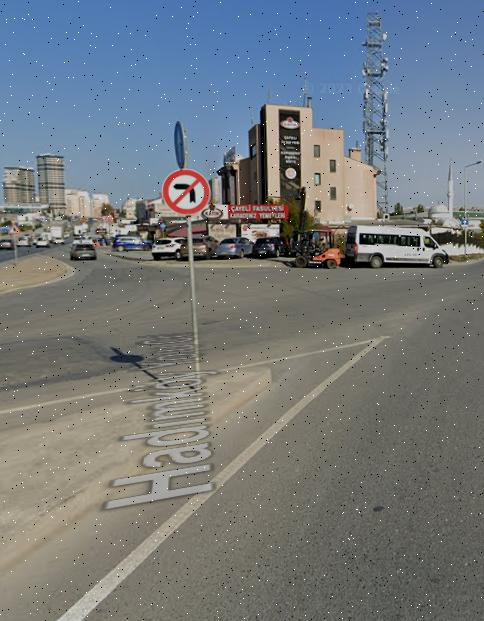leftturnsareforbidden: (161, 170, 212, 214)
